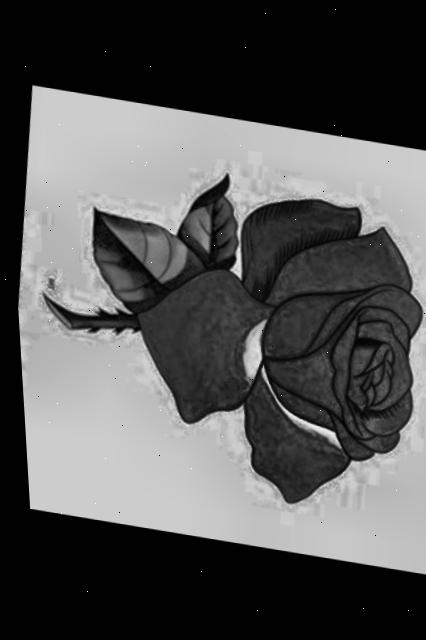La Rosa: (4, 82, 426, 569)
